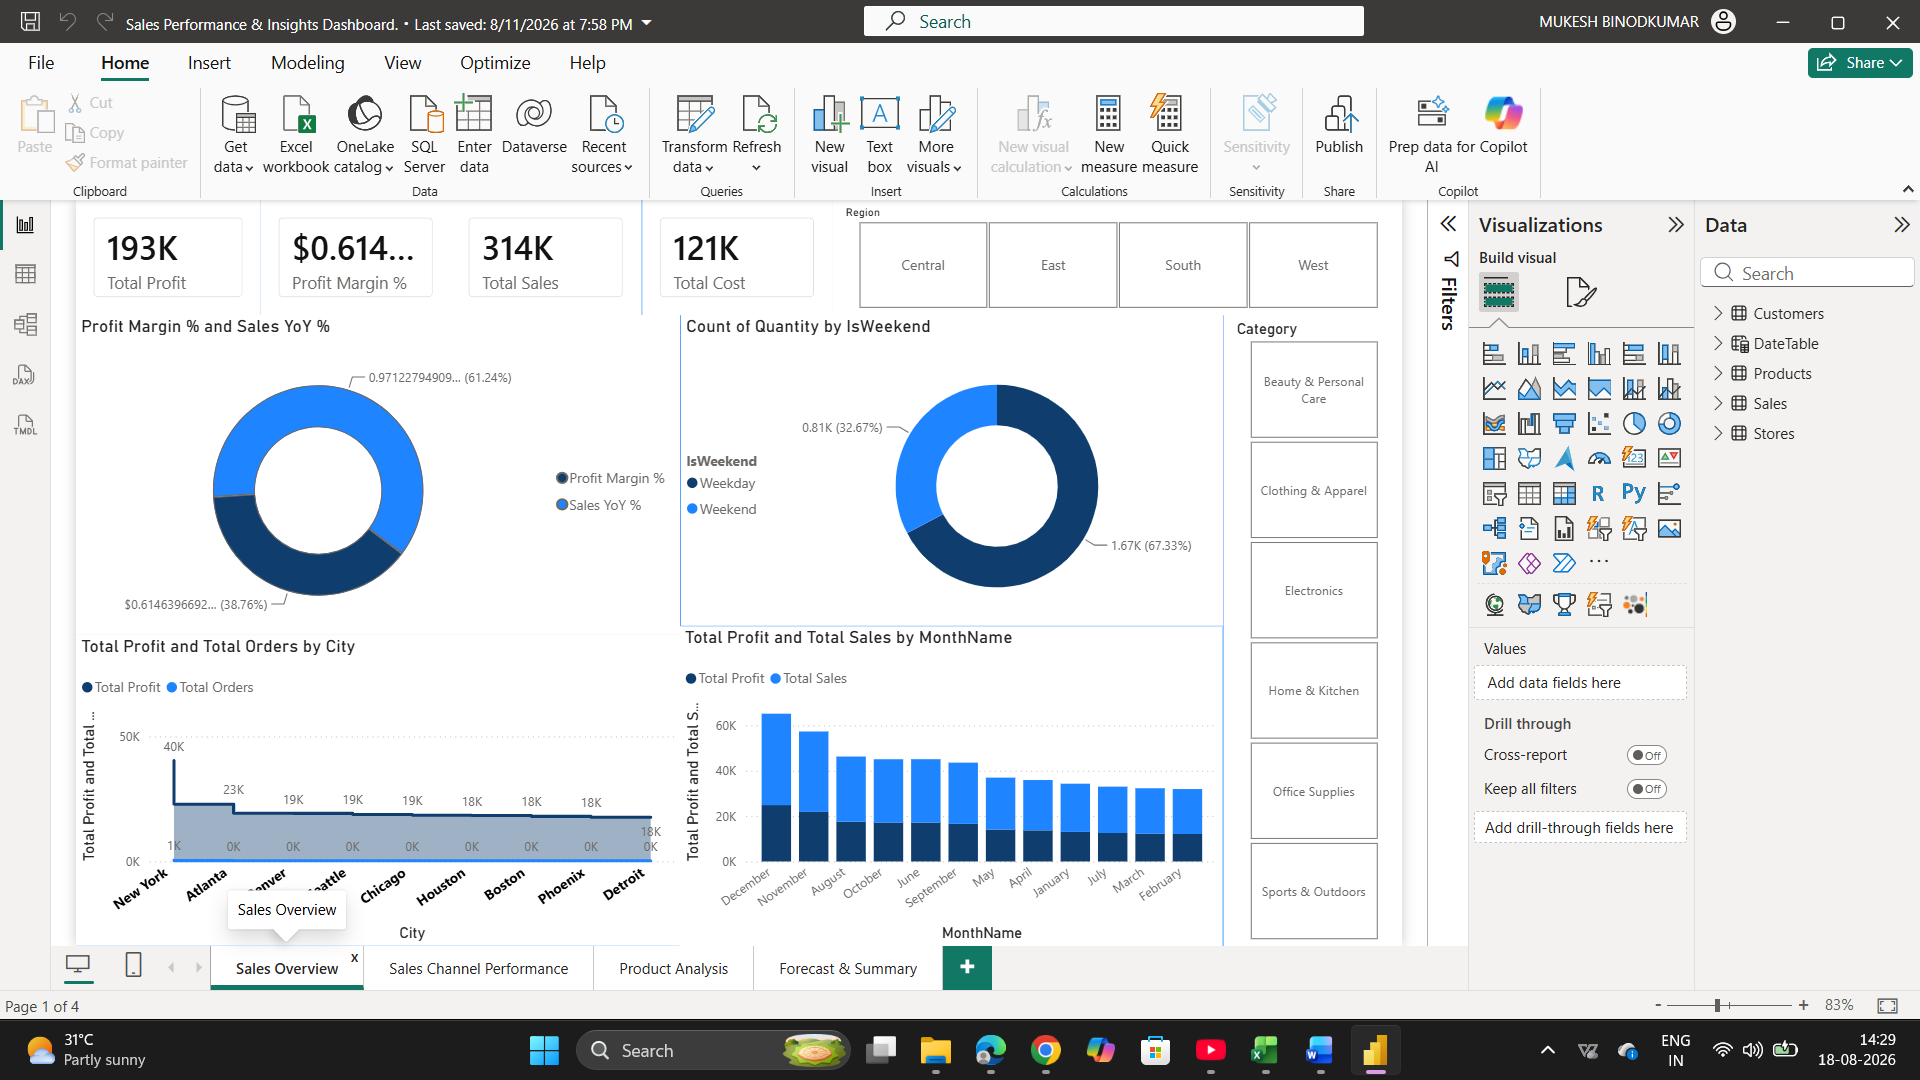

The dashboard page shown, as its layout file describes it:
{"tool":"powerbi","page":{"name":"Sales Overview","canvas":[1280,720],"ordinal":0},"visuals":[{"type":"lineChart","fields":{"Category":["Stores.City"],"Y":["Sales.Total Profit","Sales.Total Orders"]},"box":[0,420,582.9,300],"z":1000},{"type":"slicer","fields":{"Values":["Customers.Region"]},"box":[730,0,550,111.2],"z":2000},{"type":"cardVisual","fields":{"Data":["Sales.Profit Margin %"]},"box":[178.8,0,183.8,111.2],"z":3000},{"type":"cardVisual","fields":{"Data":["Sales.Total Sales"]},"box":[362.5,0,183.8,111.2],"z":4000},{"type":"cardVisual","fields":{"Data":["Sales.Total Cost"]},"box":[546.2,0,183.8,111.2],"z":5000},{"type":"cardVisual","fields":{"Data":["Sales.Total Profit"]},"box":[0,0,178.8,111.2],"z":6000},{"type":"donutChart","fields":{"Y":["Sales.Profit Margin %","Sales.Sales YoY %"]},"box":[0,111.4,582.9,308.6],"z":7000},{"type":"columnChart","fields":{"Category":["DateTable.MonthName"],"Y":["Sales.Total Profit","Sales.Total Sales"]},"box":[582.9,411.4,524.3,308.6],"z":8000},{"type":"donutChart","fields":{"Category":["DateTable.IsWeekend"],"Y":["CountNonNull(Sales.Quantity)"]},"box":[584.3,111.4,522.9,300],"z":9000},{"type":"slicer","fields":{"Values":["Products.Category"]},"box":[1107.5,111,172.5,609.3],"z":10000}]}

Visuals, with their boxes on the page's 1280x720 design canvas (x1, y1, x2, y2). These are canvas units, not pixel positions in the 1920x1080 screenshot, which may show the page scaled, cropped or inside an application window:
lineChart - Stores.City x Sales.Total Profit: (0, 420, 583, 720)
slicer - Customers.Region: (730, 0, 1280, 111)
cardVisual - Sales.Profit Margin %: (179, 0, 363, 111)
cardVisual - Sales.Total Sales: (362, 0, 546, 111)
cardVisual - Sales.Total Cost: (546, 0, 730, 111)
cardVisual - Sales.Total Profit: (0, 0, 179, 111)
donutChart - Sales.Profit Margin % x Sales.Sales YoY %: (0, 111, 583, 420)
columnChart - DateTable.MonthName x Sales.Total Profit: (583, 411, 1107, 720)
donutChart - DateTable.IsWeekend x CountNonNull(Sales.Quantity): (584, 111, 1107, 411)
slicer - Products.Category: (1108, 111, 1280, 720)
